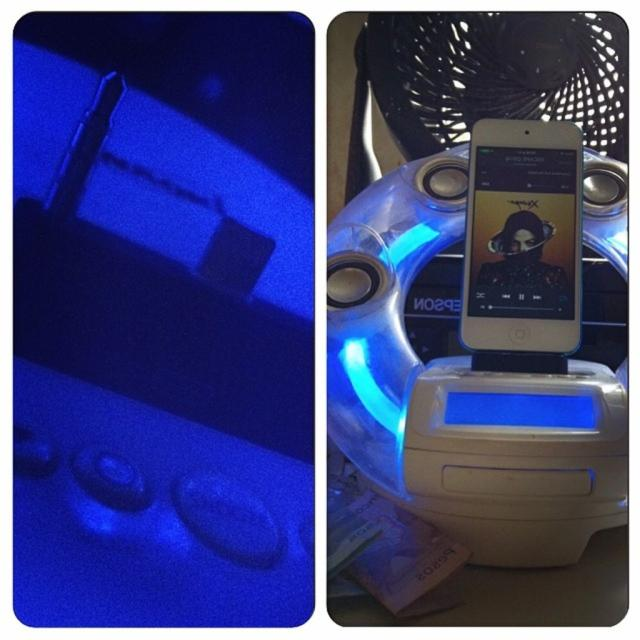Mobile-phone: (0, 0, 350, 598), (458, 119, 582, 356)
